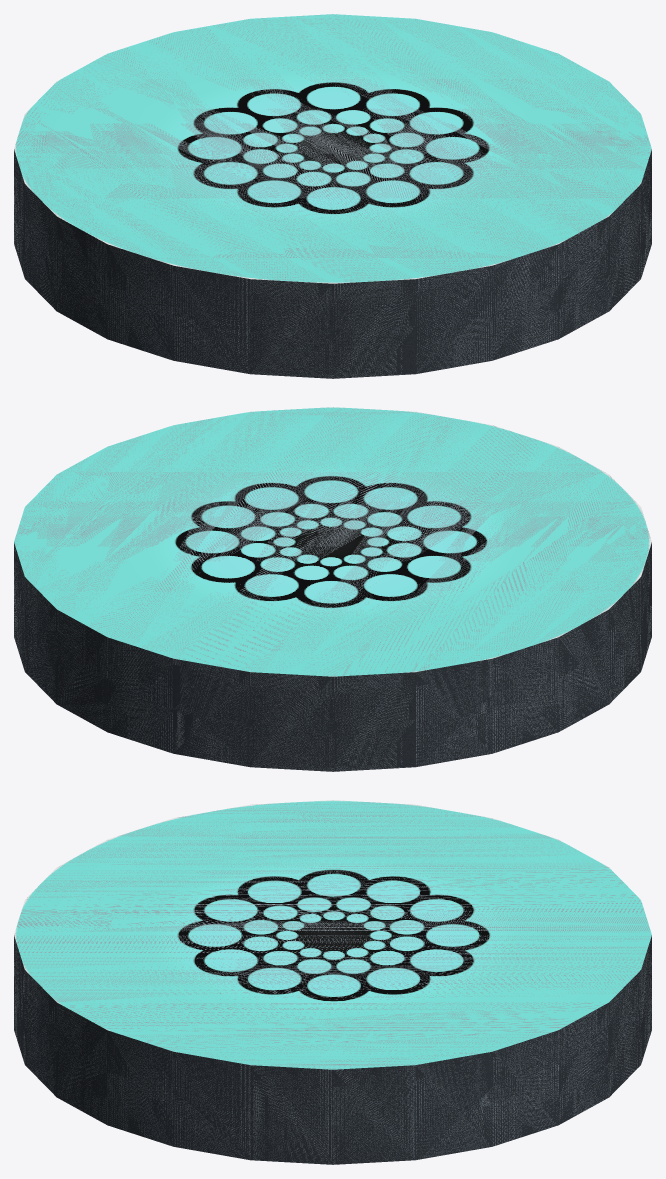
The model's file is atom3.dae.
The picture shows the model from 3 angles, top to bottom: view 1: azimuth 30°, elevation 25°; view 2: azimuth 150°, elevation 25°; view 3: azimuth 270°, elevation 25°; orthographic projection.
Visible parts, largest first — view 1: SketchUp (×2); view 2: SketchUp (×2); view 3: SketchUp (×2).
Part boxes in pixels (x1,y1,x2,y2): SketchUp (×2): (14, 14, 651, 378); SketchUp (×2): (14, 407, 651, 771); SketchUp (×2): (14, 800, 651, 1164).
Bounding box in the file's own units: 5.98 × 5.98 × 0.9843.
Materials: 3 (2 with a texture image).
